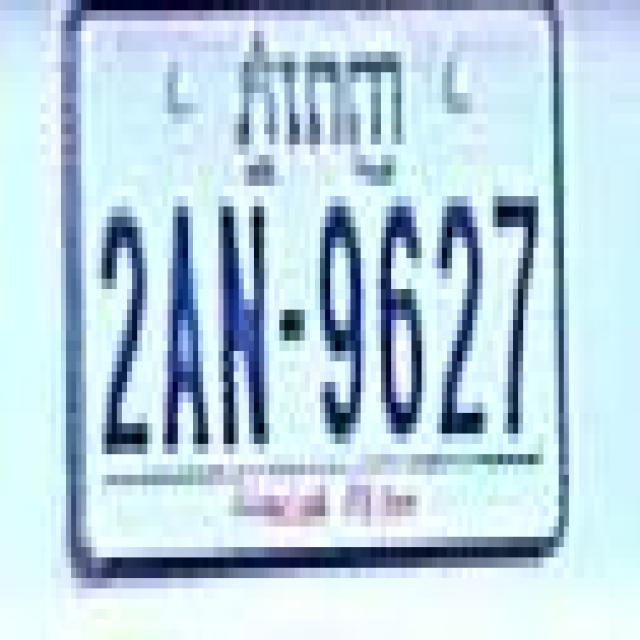Phnom_Penh: (239, 31, 403, 192)
